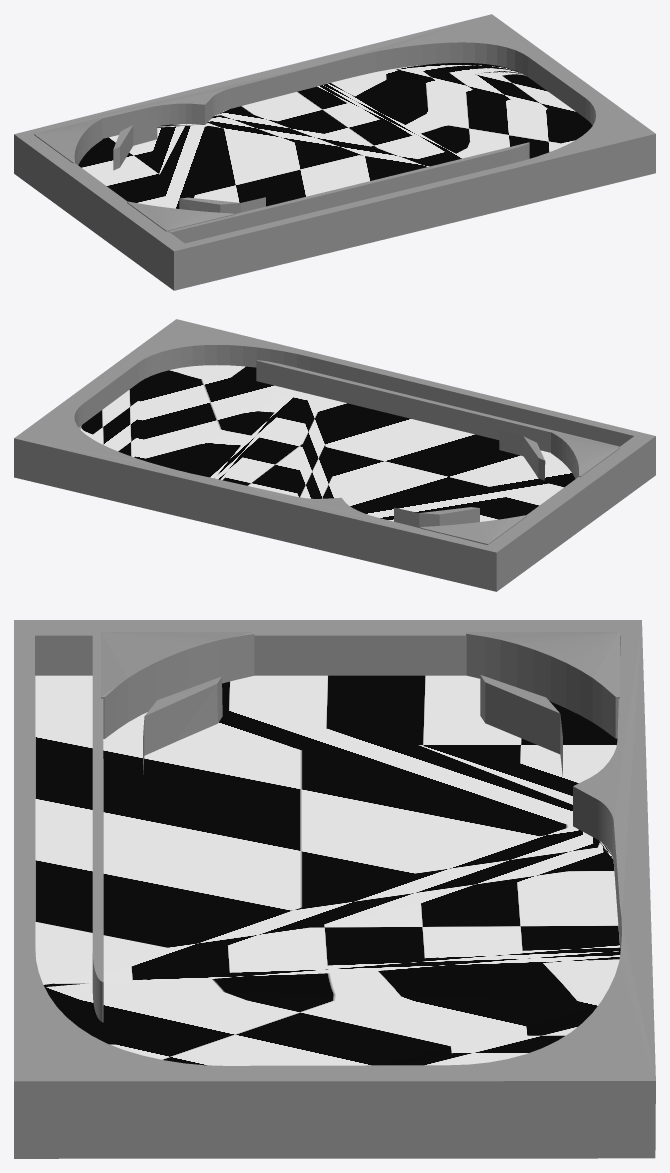
The model's file is smootherpinballtable.obj.
The picture shows the model from 3 angles, top to bottom: view 1: azimuth 30°, elevation 25°; view 2: azimuth 150°, elevation 25°; view 3: azimuth 270°, elevation 25°; orthographic projection. The views are drawn at different scales.
Parts seen in each view (by area): view 1: Board_Cube.006, Left_Cube.002, Right_Cube.001, leftdivider_Cube, rightdivider_Cube.003; view 2: Board_Cube.006, Right_Cube.001, Left_Cube.002, leftdivider_Cube, rightdivider_Cube.003; view 3: Board_Cube.006, Left_Cube.002, Right_Cube.001, leftdivider_Cube, rightdivider_Cube.003.
Part boxes in pixels (<box>): Board_Cube.006: <box>14,14,655,290</box>; Left_Cube.002: <box>34,117,102,164</box>; Right_Cube.001: <box>127,201,233,231</box>; leftdivider_Cube: <box>113,118,157,170</box>; rightdivider_Cube.003: <box>179,197,265,214</box>; Board_Cube.006: <box>14,319,655,591</box>; Right_Cube.001: <box>551,431,619,478</box>; Left_Cube.002: <box>420,515,526,544</box>; leftdivider_Cube: <box>394,507,479,528</box>; rightdivider_Cube.003: <box>499,430,545,480</box>; Board_Cube.006: <box>14,620,655,1158</box>; Left_Cube.002: <box>466,632,619,738</box>; Right_Cube.001: <box>101,632,254,738</box>; leftdivider_Cube: <box>480,675,562,776</box>; rightdivider_Cube.003: <box>143,676,222,774</box>.
Size of the model in its own units: 28.4 by 2.38 by 16.7.
